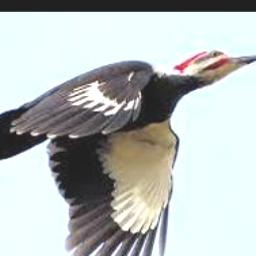Woodpecker: (0, 49, 256, 256)
